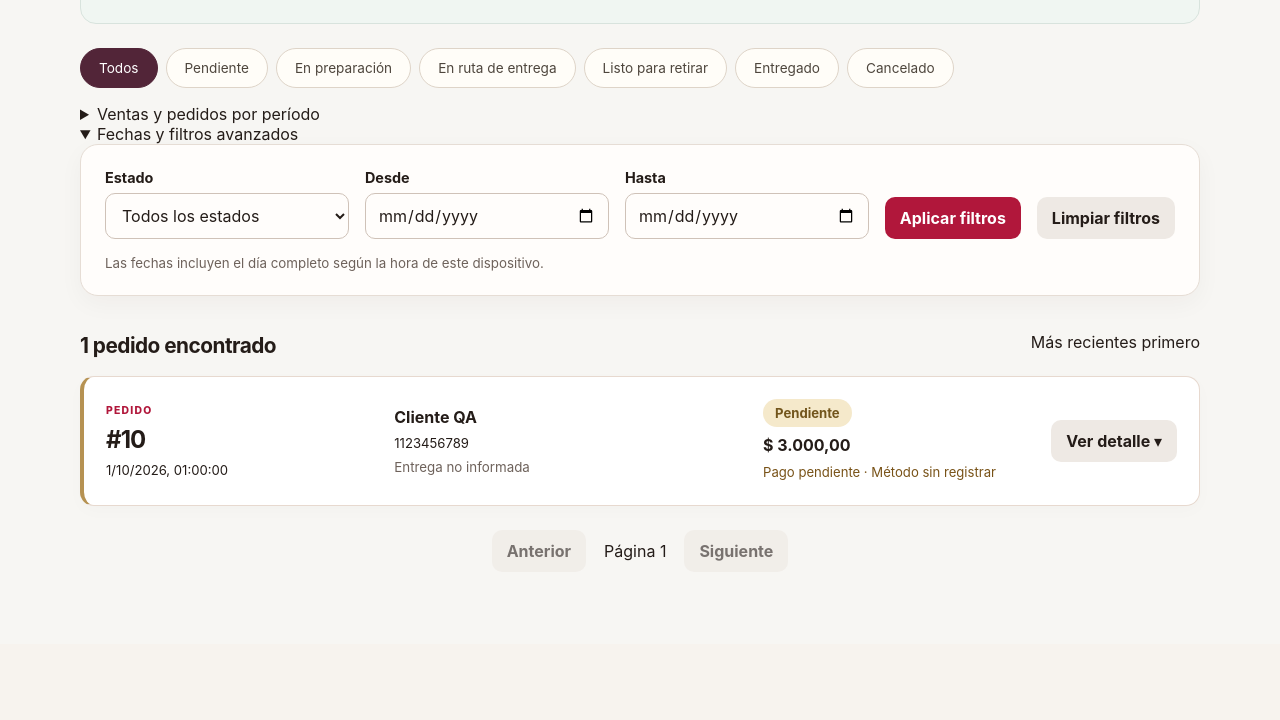
it: detalle retirado no deja visible información anterior
(page scrolled)
Click the button with aria-label "Ver pedido #10" at point(1114, 441), box top-left (1051, 420), bottom-right (1177, 462)
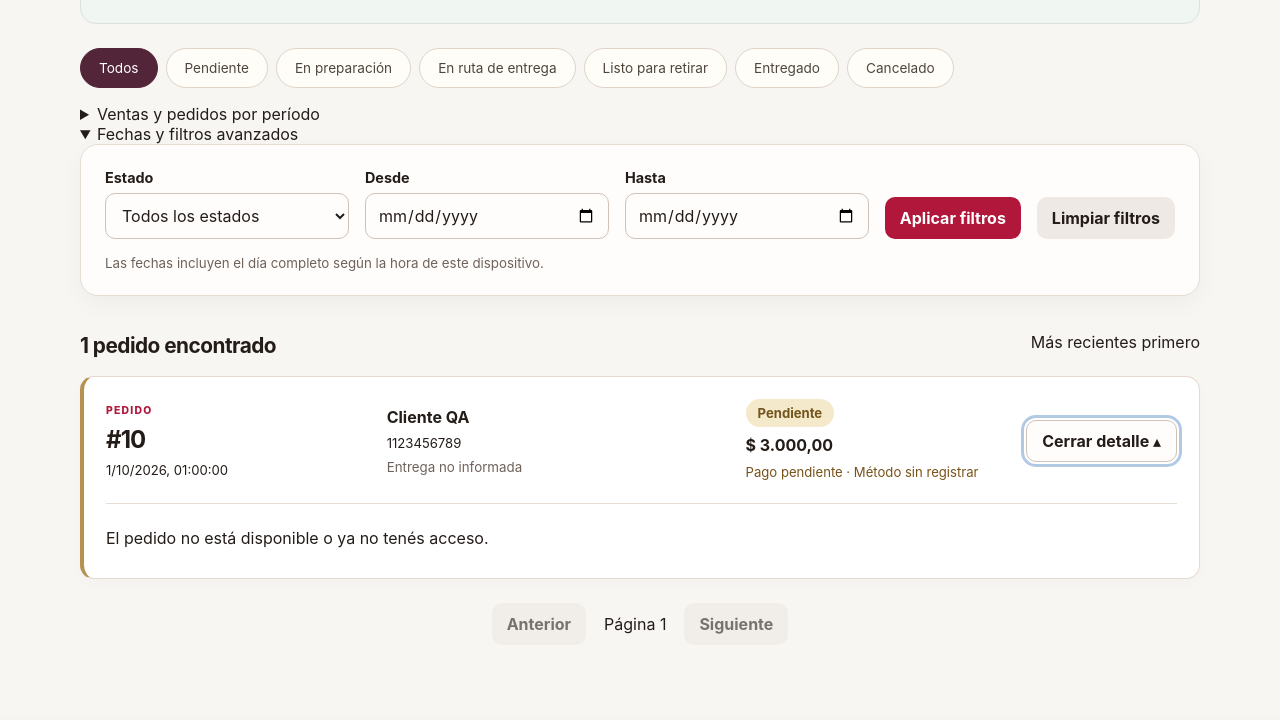
expect the message shows "no está disponible": met, box top-left (106, 528), bottom-right (488, 548)
